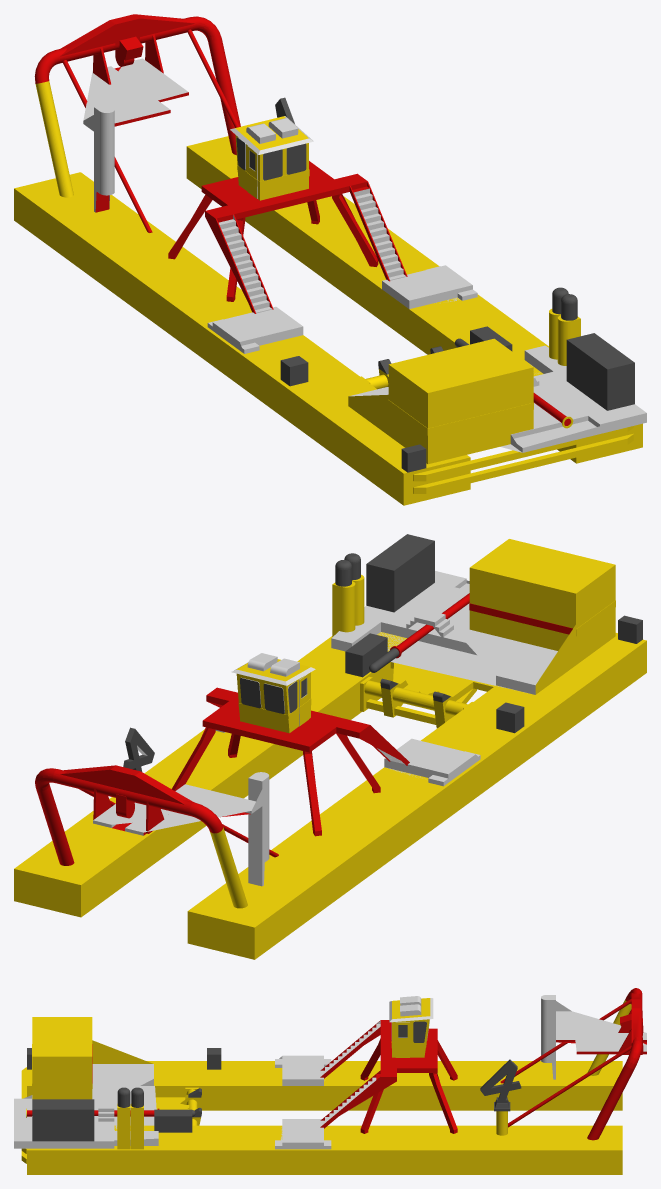
Rendered from Silvi Hull.glb.
3 views of the same model, one above another, from view 1: azimuth 30°, elevation 25°; view 2: azimuth 150°, elevation 25°; view 3: azimuth 270°, elevation 25° (orthographic). The views are drawn at different scales.
Visible parts, largest first — view 1: Node246, Node245, Node16, Node2026, Node2024, Node1237, Node26, Node2023, Node27, Node1927, Node1931, Node2674 (+13 smaller); view 2: Node246, Node245, Node16, Node2029, Node2024, Node2023, Node26, Node1999, Node1927, Node1237, Node1911, Node1932 (+13 smaller); view 3: Node608, Node16, Node246, Node242, Node247, Node2024, Node2025, Node1237, Node1929, Node1999, Node2663, Node1927 (+22 smaller).
Part boxes in pixels (<box>): Node246: <box>14,172,469,473</box>; Node245: <box>14,188,403,505</box>; Node16: <box>187,136,548,376</box>; Node2026: <box>428,367,533,464</box>; Node2024: <box>389,338,532,392</box>; Node1237: <box>83,58,188,123</box>; Node26: <box>186,146,430,354</box>; Node2023: <box>348,365,427,463</box>; Node27: <box>188,147,456,350</box>; Node1927: <box>525,345,646,424</box>; Node1931: <box>566,340,607,410</box>; Node2674: <box>382,265,472,300</box>; Node246: <box>188,633,646,927</box>; Node245: <box>254,641,646,959</box>; Node16: <box>14,632,406,884</box>; Node2029: <box>469,568,575,650</box>; Node2024: <box>470,539,615,593</box>; Node2023: <box>535,565,615,694</box>; Node26: <box>81,712,357,917</box>; Node1999: <box>428,603,557,685</box>; Node1927: <box>332,571,469,643</box>; Node1237: <box>93,784,255,832</box>; Node1911: <box>377,632,524,692</box>; Node1932: <box>366,534,434,612</box>; Node608: <box>27,1150,622,1174</box>; Node16: <box>27,1125,622,1150</box>; Node246: <box>27,1061,622,1085</box>; Node242: <box>202,1086,622,1110</box>; Node247: <box>155,1086,613,1108</box>; Node2024: <box>32,1017,92,1056</box>; Node2025: <box>32,1056,92,1099</box>; Node1237: <box>556,1011,646,1051</box>; Node1929: <box>32,1109,94,1141</box>; Node1999: <box>32,1064,153,1110</box>; Node2663: <box>282,1055,323,1079</box>; Node1927: <box>14,1116,158,1141</box>.
Size of what is drawn, in the model's own units: 468 by 311 by 1404.
